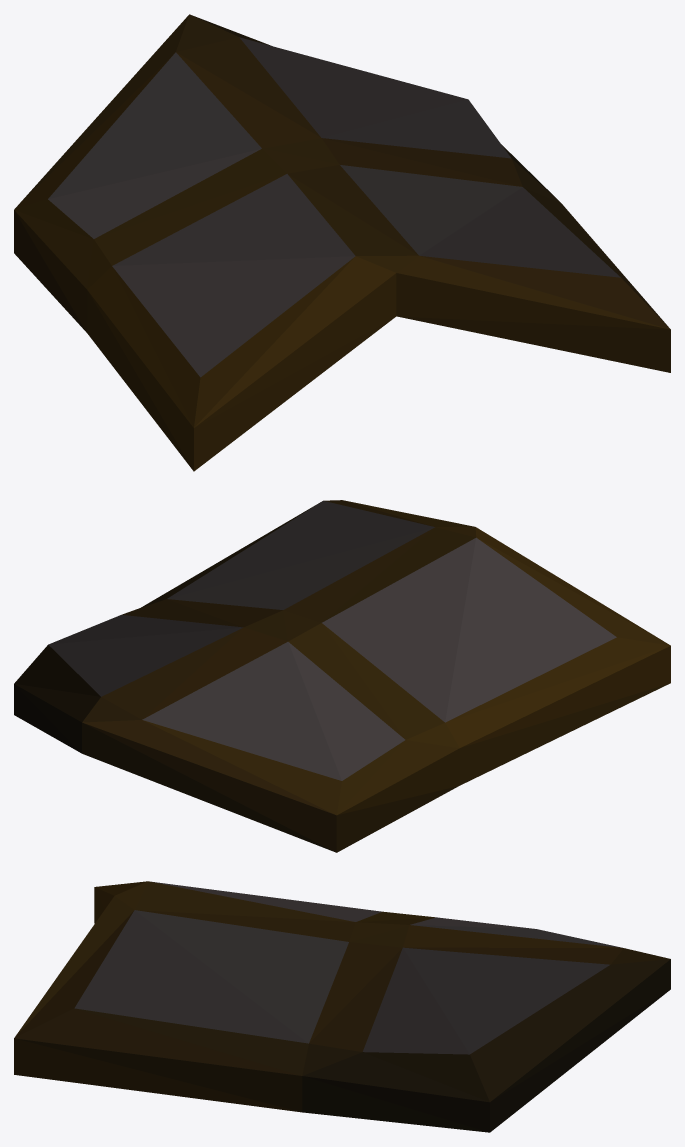
The model's file is iron-kiteshield.obj.
The picture shows the model from 3 angles, top to bottom: view 1: azimuth 30°, elevation 25°; view 2: azimuth 150°, elevation 25°; view 3: azimuth 270°, elevation 25°; orthographic projection. The views are drawn at different scales.
Parts seen in each view (by area): view 1: Item Iron kiteshield 2026-09-24_18-11-25; view 2: Item Iron kiteshield 2026-09-24_18-11-25; view 3: Item Iron kiteshield 2026-09-24_18-11-25.
Boxes of the visible parts, x1,y1,x2,y2 form: Item Iron kiteshield 2026-09-24_18-11-25: [14, 14, 670, 471]; Item Iron kiteshield 2026-09-24_18-11-25: [14, 500, 670, 852]; Item Iron kiteshield 2026-09-24_18-11-25: [14, 881, 670, 1132].
Bounding box in the file's own units: 76 × 22 × 98.
